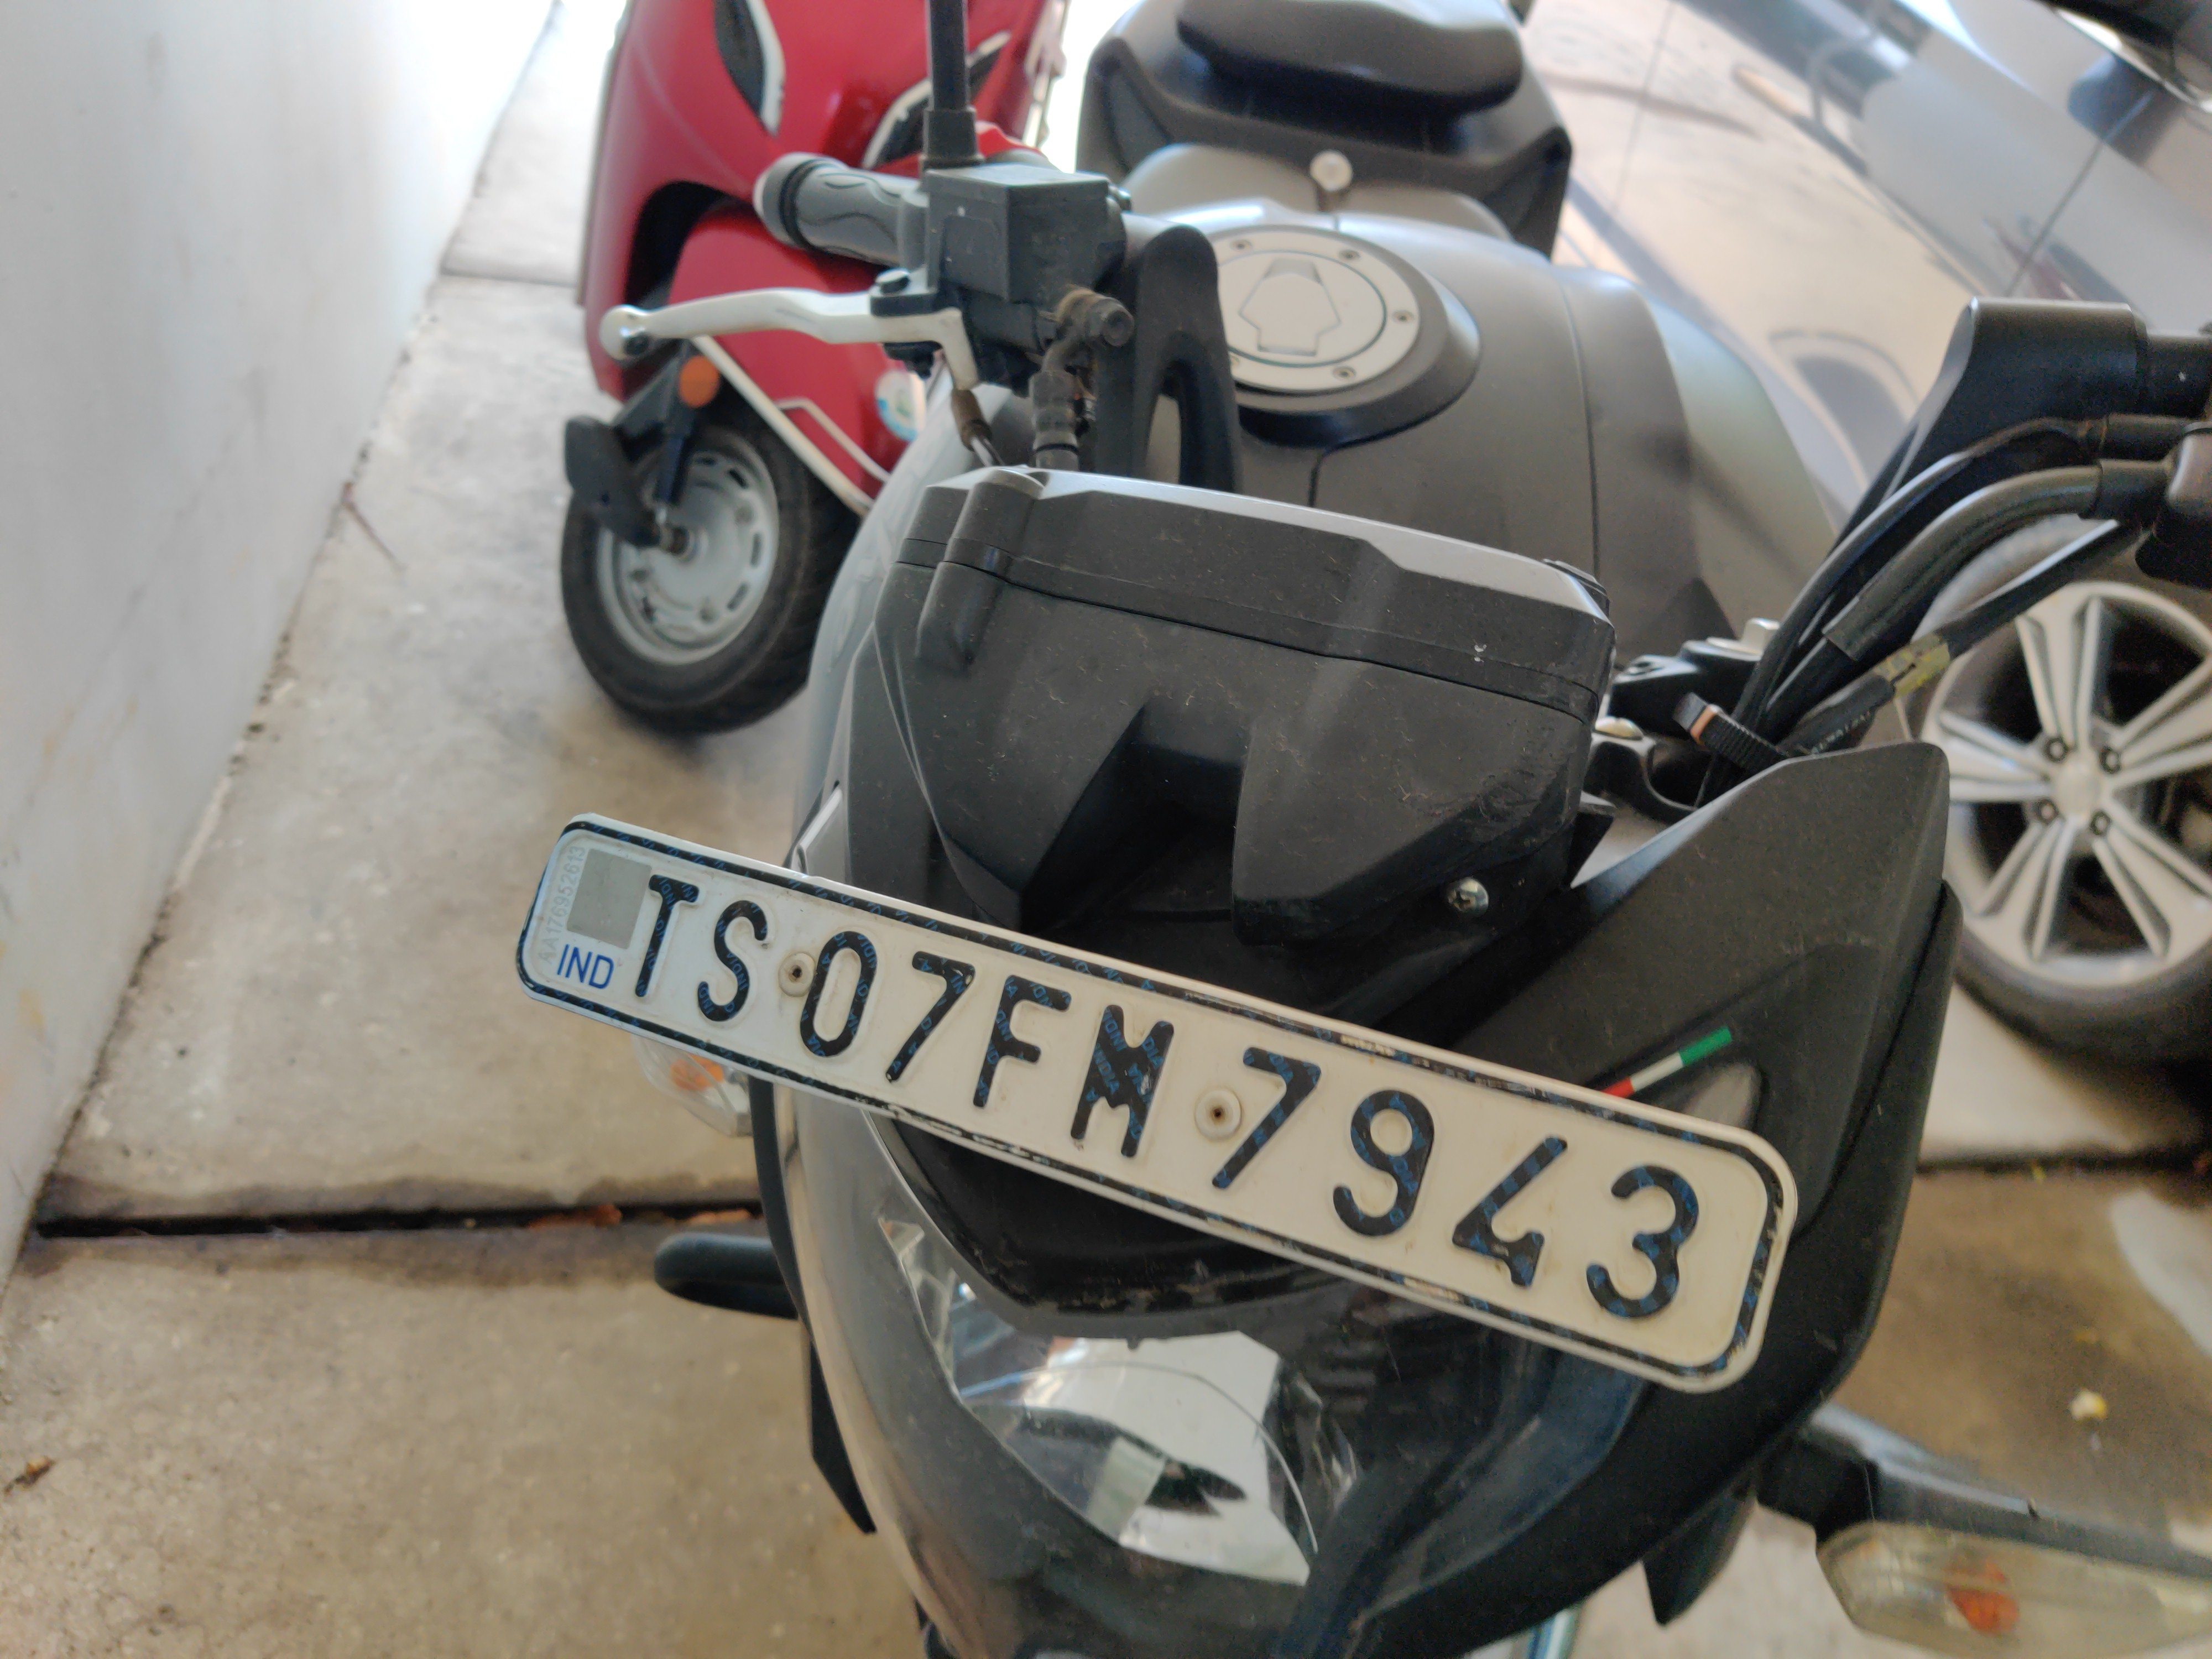plate: (498, 808, 1857, 1421)
